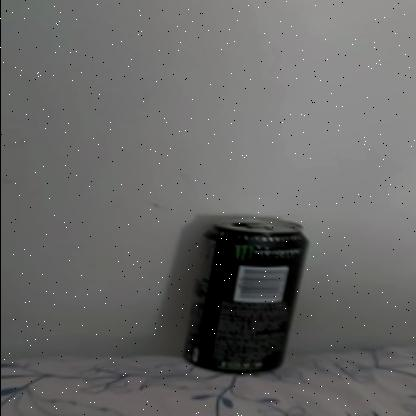Can: (182, 216, 306, 374)
